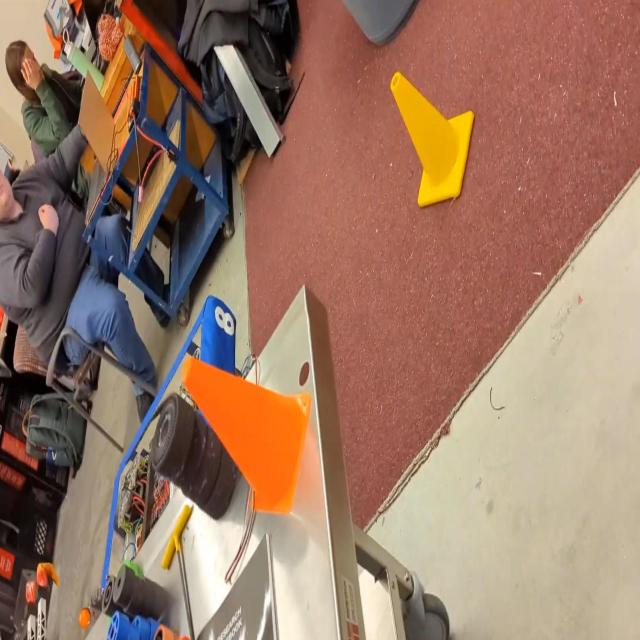frc_cone: (387, 71, 476, 210)
